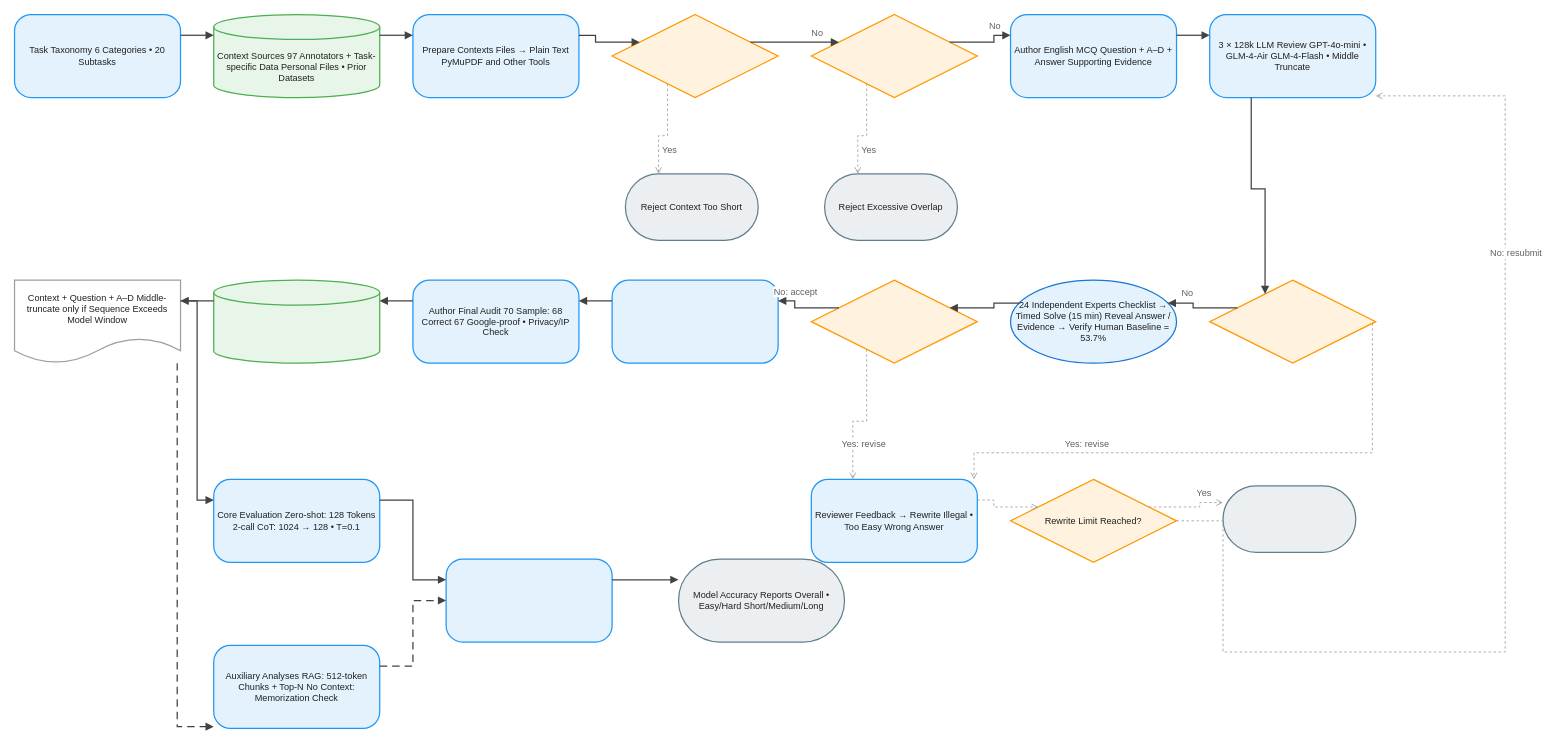
Image size: 1556x749. Some labels were removed from this diagram. Each missing label, with the box of its shape:
503 English Test MCQs Easy 192 • Hard 311 Short 180 • Medium 215 • Long 108: (213, 279, 380, 363)
All 3 Models Answer Correctly?: (1209, 279, 1376, 363)
Assign Difficulty Hard: ≥2 LLMs Miss AND Expert Needs >10 min: (611, 279, 778, 363)
Context Below 8,192 Words?: (611, 14, 778, 98)
Discard Persistent Failure: (1222, 485, 1356, 553)
High Overlap with Earlier Annotations?: (810, 14, 978, 98)
Official A–D Regex Parser Exact Choice Match Invalid Output = Wrong: (445, 558, 612, 642)
Revision Needed? Invalid / Wrong Answer or Correct within 3 min: (810, 279, 978, 363)
